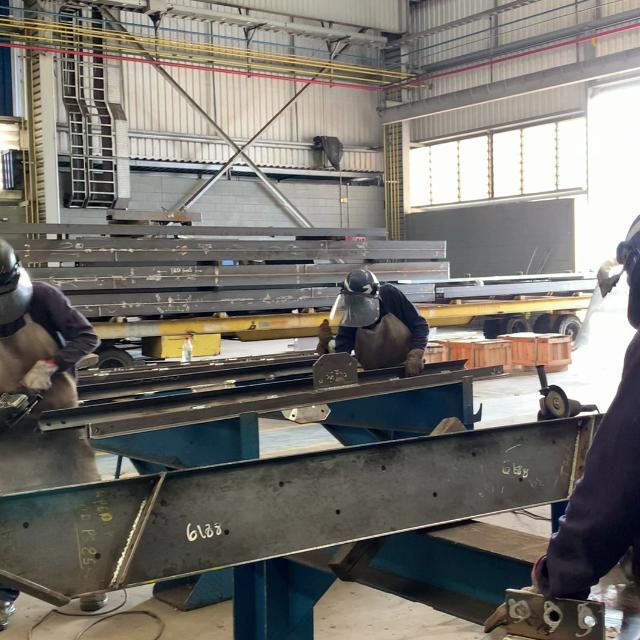eye-glass: (324, 292, 380, 327), (1, 268, 34, 323)
face-shield: (23, 358, 57, 391), (402, 348, 426, 379)
glove: (340, 268, 376, 294), (1, 239, 19, 275)
mask: (1, 231, 110, 406), (315, 267, 428, 383)
safety-shoe: (79, 594, 110, 614), (1, 603, 11, 630)
